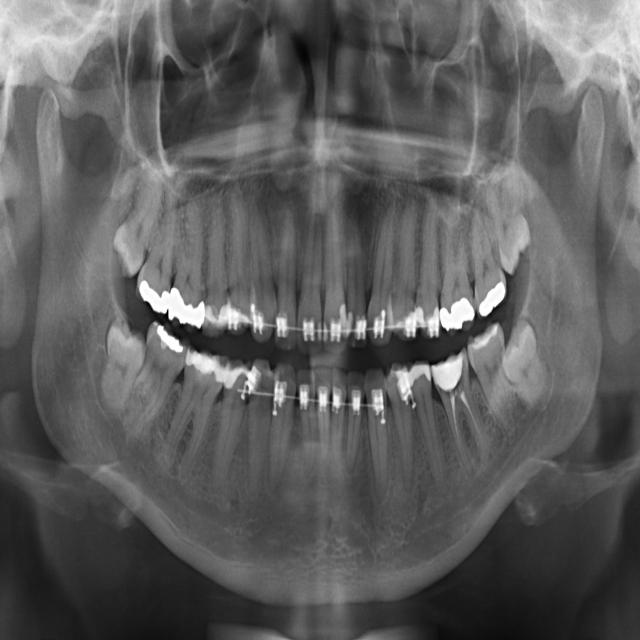AmalgamRestoration: (165, 291, 207, 334), (150, 321, 187, 368), (440, 294, 476, 331), (136, 273, 163, 318), (479, 278, 505, 321)
CompositeResinRestoration: (432, 351, 466, 392), (187, 348, 223, 385), (224, 352, 253, 385), (408, 359, 433, 392), (206, 301, 232, 332), (418, 308, 439, 341)
ImpactedTooth: (488, 172, 534, 277), (106, 305, 147, 416), (502, 312, 544, 414)
